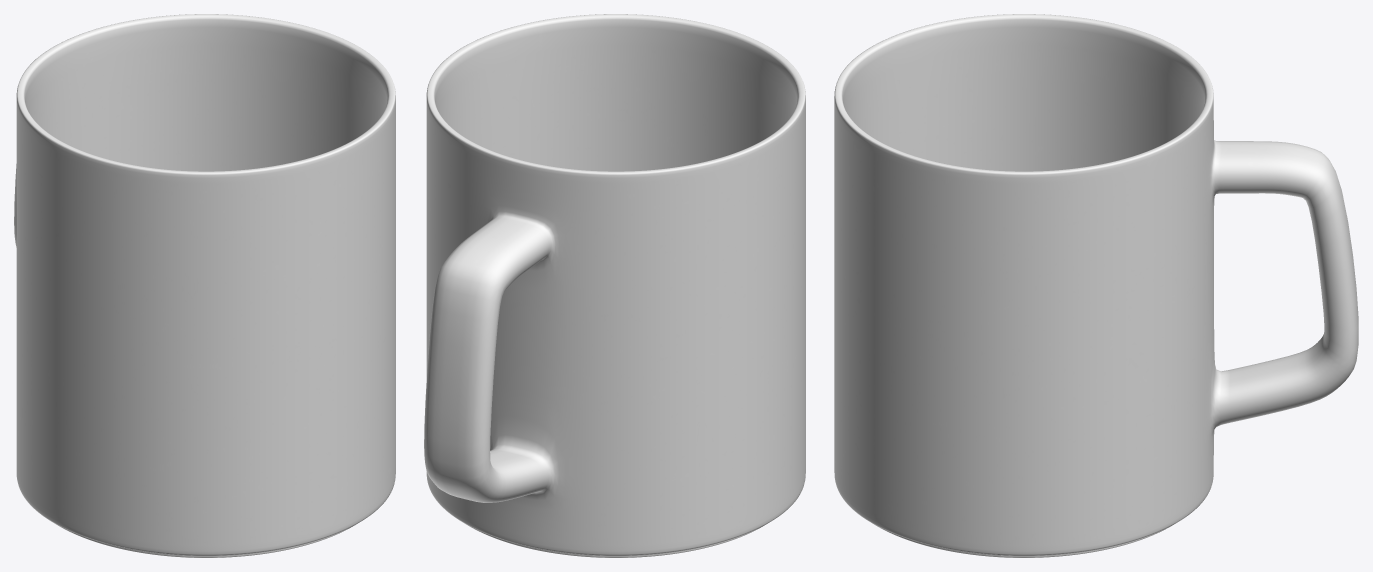
Rendered from taza.glb.
3 views of the same model, side by side, from view 1: azimuth 30°, elevation 25°; view 2: azimuth 150°, elevation 25°; view 3: azimuth 270°, elevation 25° (orthographic).
Parts seen in each view (by area): view 1: Cylinder; view 2: Cylinder; view 3: Cylinder.
Part boxes in pixels (x1=…): Cylinder: x1=14, y1=14, x2=395, y2=557; Cylinder: x1=424, y1=14, x2=805, y2=557; Cylinder: x1=834, y1=14, x2=1358, y2=557.
Size of the model in its own units: 0.1196 by 0.135 by 0.1653.
Materials: 1 (1 with a texture image).
